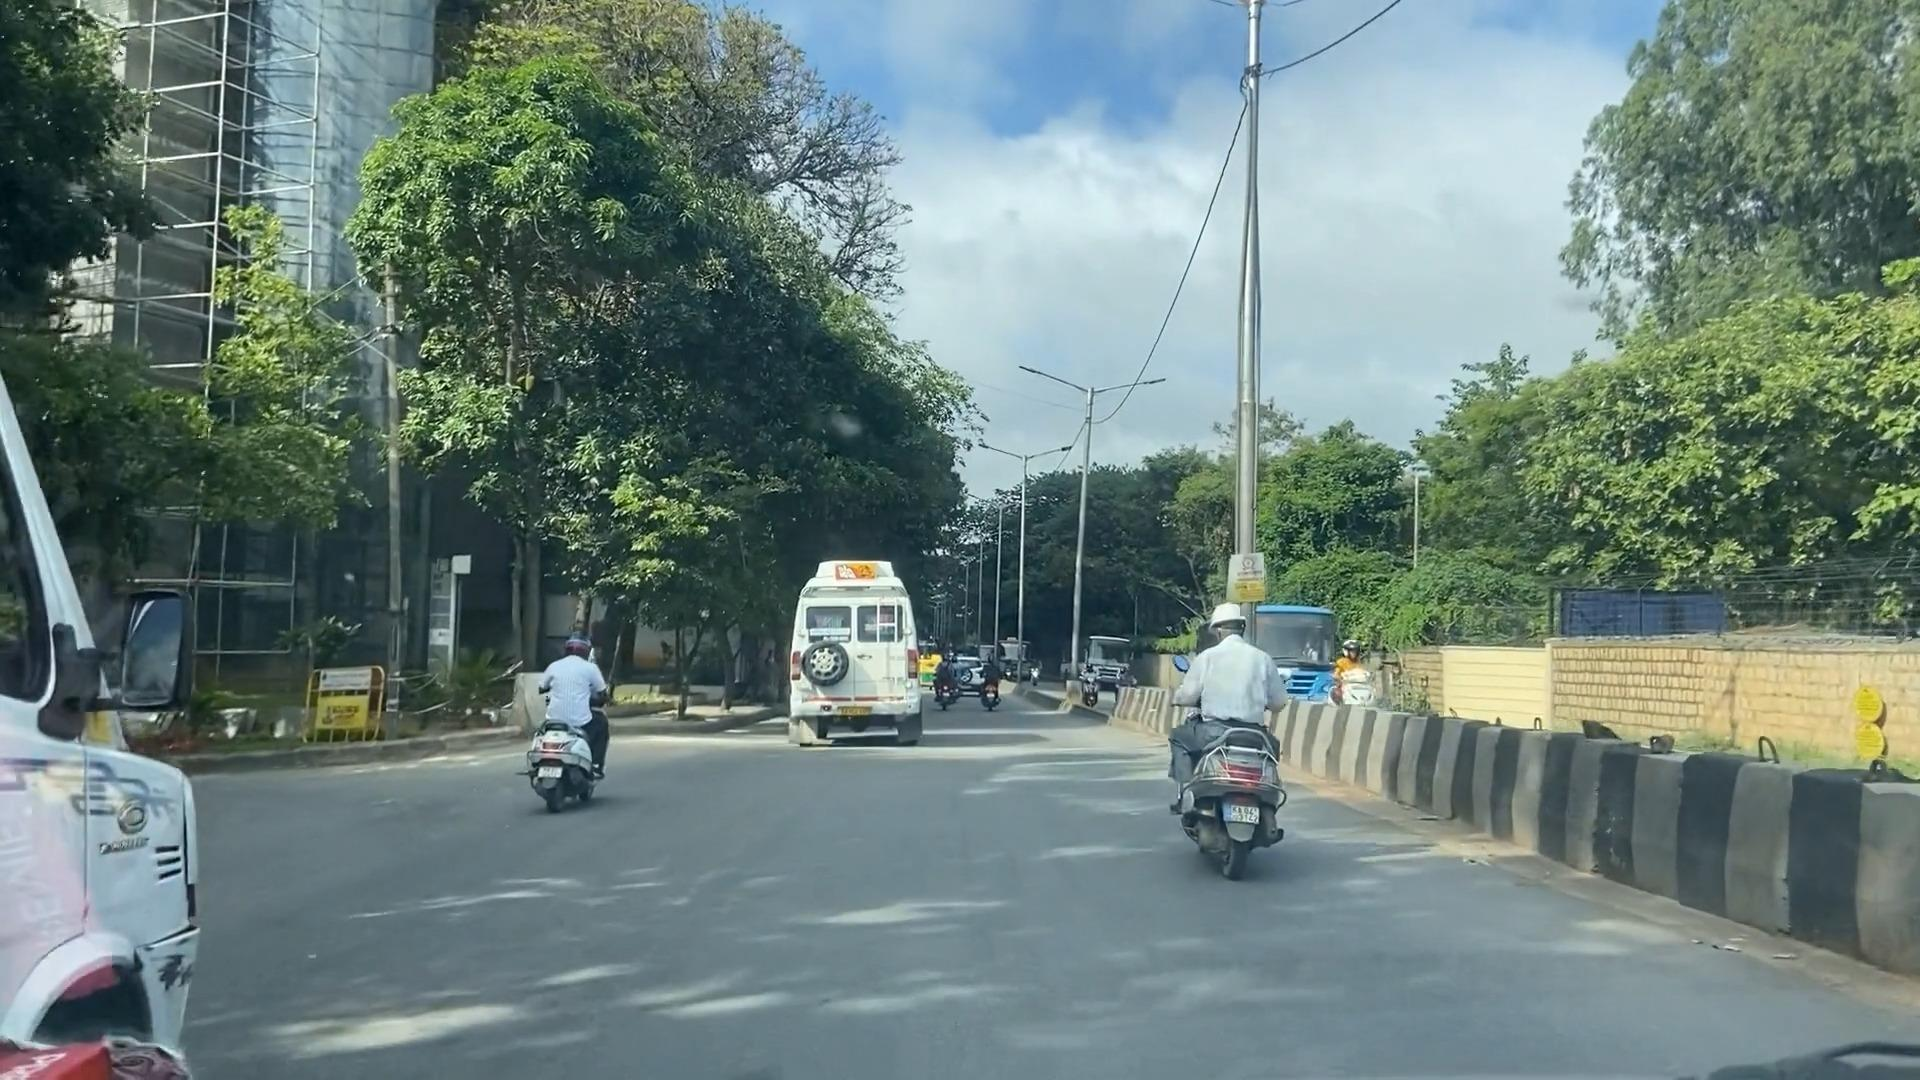HMV: (790, 558, 947, 757)
LMV: (1180, 608, 1294, 882), (526, 638, 621, 820)
